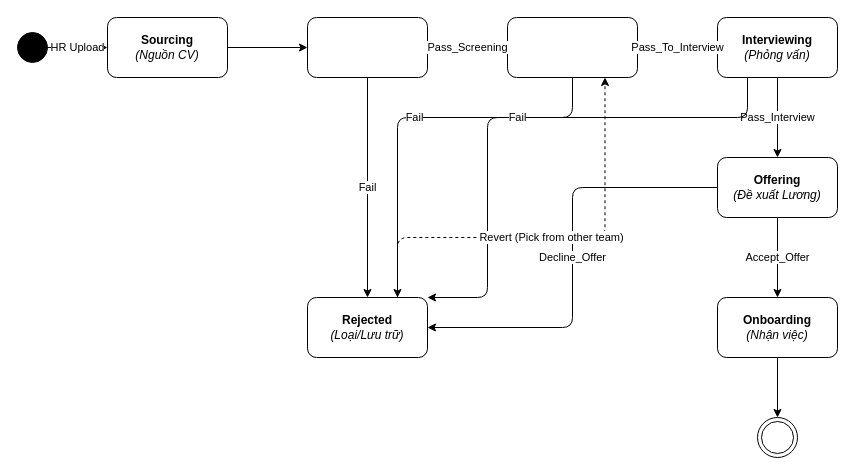
This 855x475 diagram has some shape labels left out. The shapes that lost their labels are listed below. From the top down, each one's centre as x and y in pixels, then its label:
At pixel 367 47: "HR_Screening (Sơ loại HR)".
At pixel 572 47: "Manager_Review (Quản lý Đánh giá)".
